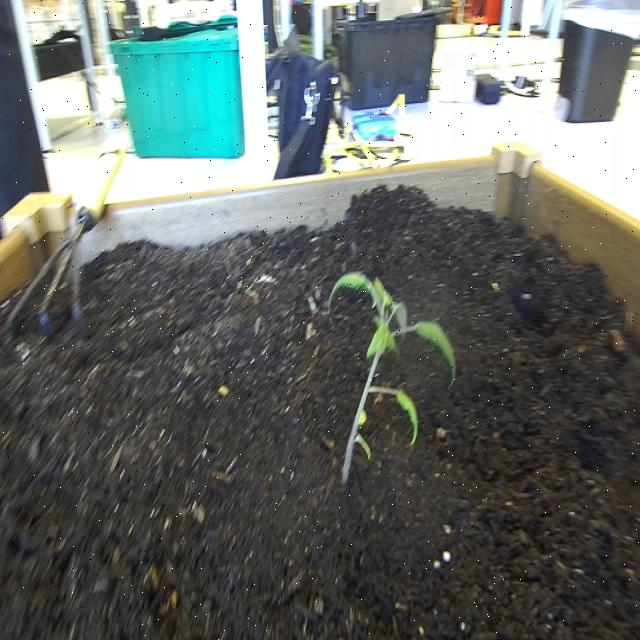Healthy: (318, 249, 459, 503)
